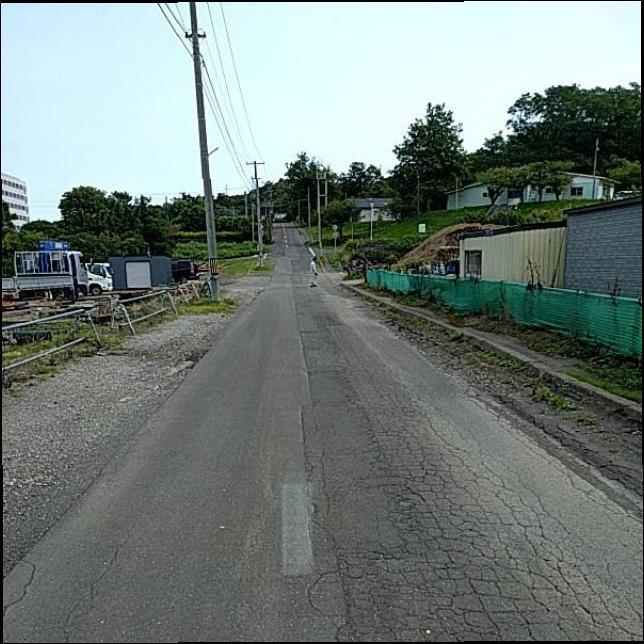Retak Buaya: (369, 409, 644, 643)
